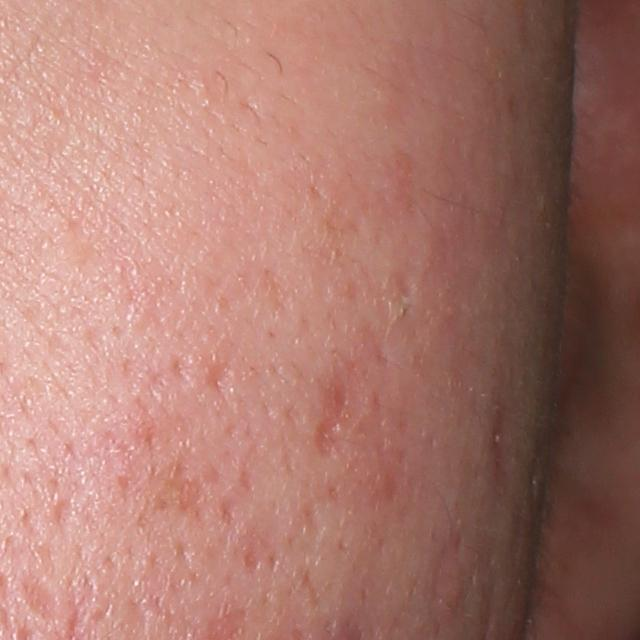atrophic_scar: (314, 355, 385, 468), (19, 566, 62, 631), (207, 357, 232, 393), (241, 539, 262, 572)
